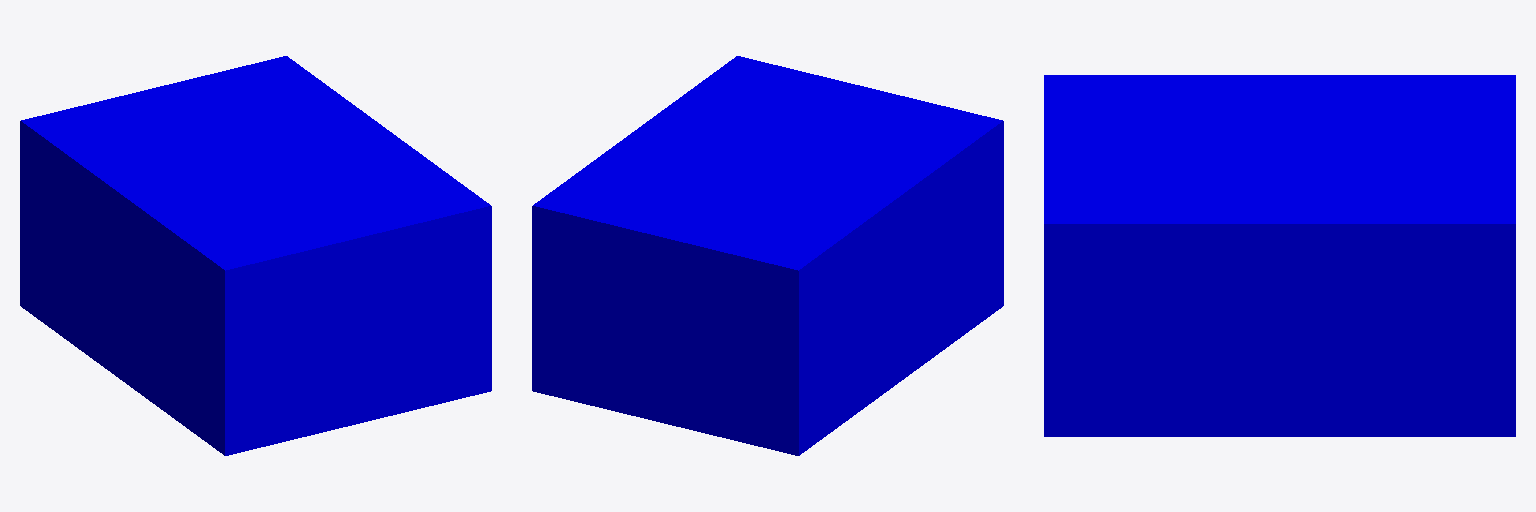
The robot description file, URDF, robot "cubeDE8":
<?xml version="1.0"?>
<robot name="cubeDE8">
	<link name="base">
	<inertial>
        	 <origin xyz="0 0 0" rpy="0 0 0"/>
        	 <mass value="0.5"/>
        	 <inertia ixx="0.000683333"  ixy="0"  ixz="0" iyy="0.000683333" iyz="0" izz="0.000683333" />
       </inertial>
		<visual>
			<origin xyz="0 0 0" rpy="0 0 0" />
			<geometry>
				<box size="0.03 0.04 0.02" />
			</geometry>
			<material>
				<color rgba="0 0 1 1" />
			</material>
		</visual>
		<collision>
			<origin xyz="0 0 0" rpy="0 0 0" />
			<geometry>
				<box size="0.03 0.04 0.02" />
			</geometry>
			
		</collision>
	</link>
</robot>

--- What the picture shows (computed from the rendered views, not written in the file) ---
3 views of the same robot in one strip: view 1: azimuth 30°, elevation 25°; view 2: azimuth 150°, elevation 25°; view 3: azimuth 270°, elevation 25° (orthographic).
Model cubeDE8 with 1 links and 0 joints (none), rooted at base, posed every joint at zero.
Links seen in each view (by area): view 1: base; view 2: base; view 3: base.
Boxes of the visible links, <box> form: base: <box>20,56,491,455</box>; base: <box>532,56,1003,455</box>; base: <box>1044,75,1515,436</box>.
Bounding box of the posed robot: 0.03 × 0.04 × 0.02 m (x, y, z).
Geometry: primitives only (box / cylinder / sphere), no mesh files.
